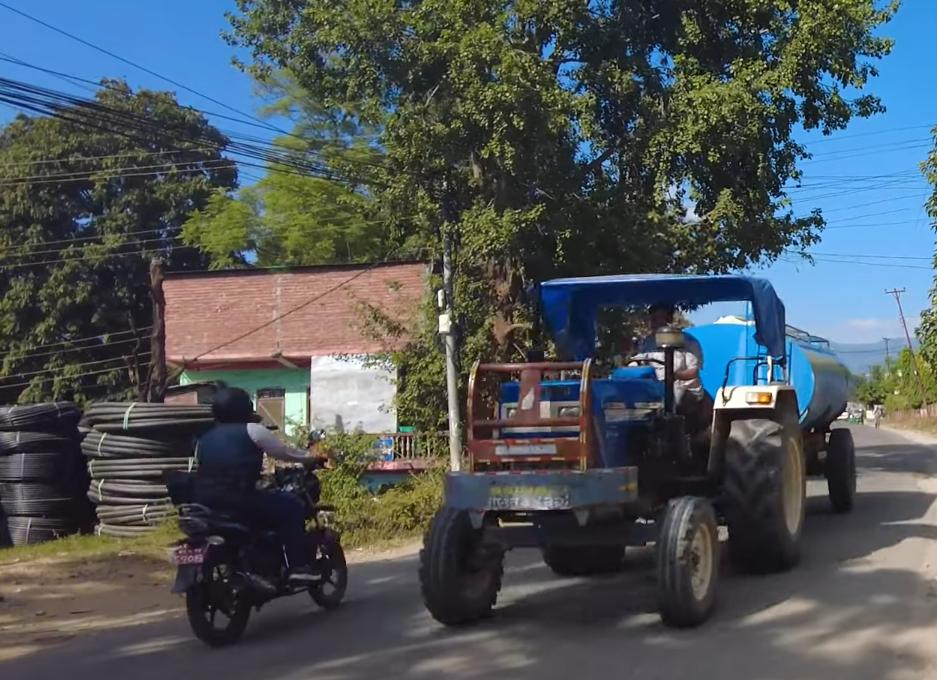bike: (164, 427, 357, 652)
tractor: (395, 250, 869, 639)
